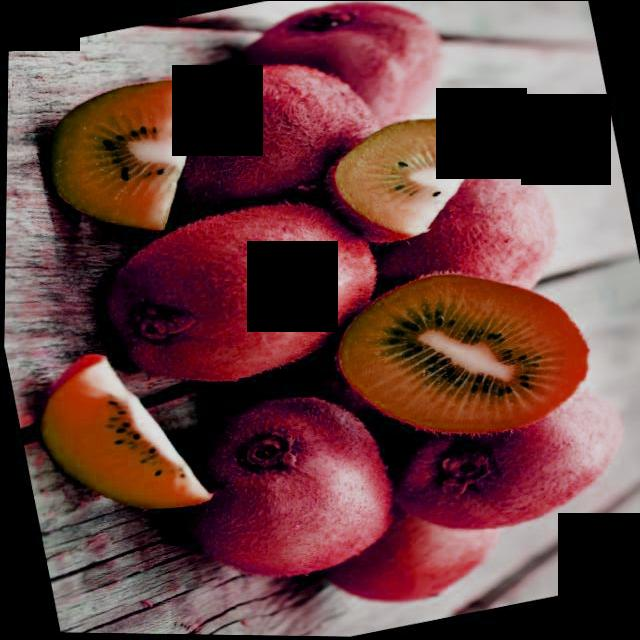kiwi: (84, 181, 400, 414), (154, 375, 414, 608), (370, 338, 640, 556), (128, 35, 404, 238), (331, 140, 575, 345), (299, 440, 512, 624), (219, 2, 455, 165)
